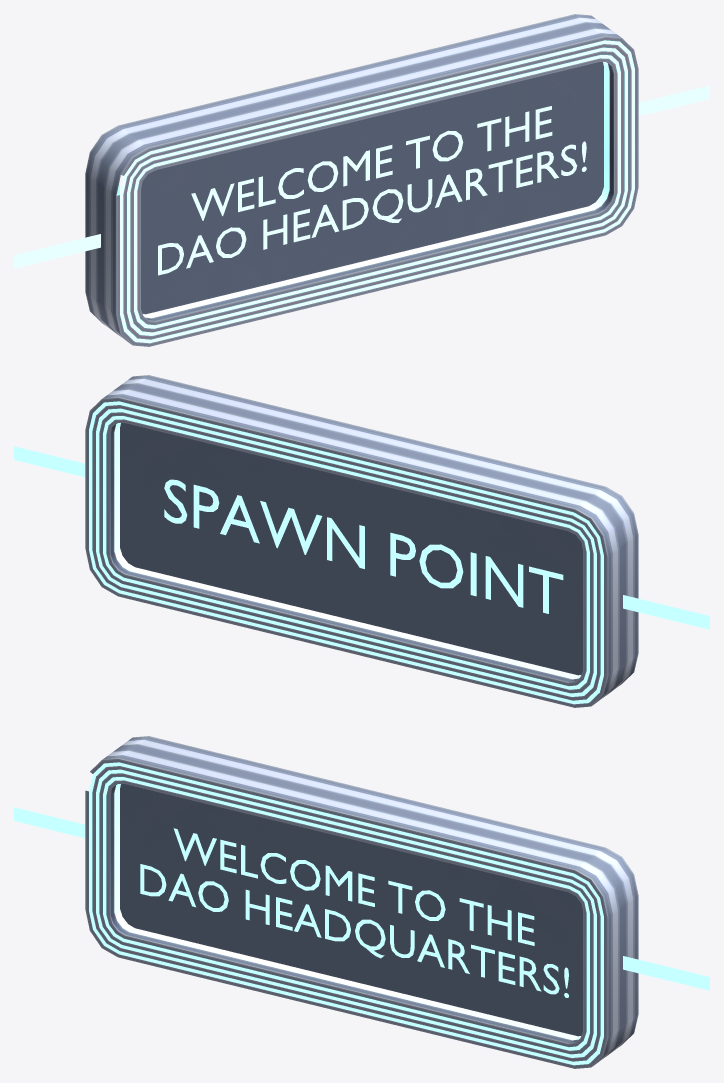
Rendered from obj_daohq.gltf.
3 views of the same model, one above another, from view 1: azimuth 30°, elevation 25°; view 2: azimuth 150°, elevation 25°; view 3: azimuth 330°, elevation 25° (orthographic).
Parts seen in each view (by area): view 1: obj_daohq; view 2: obj_daohq; view 3: obj_daohq.
Part boxes in pixels (bbox=[...]): obj_daohq: bbox=[14, 14, 709, 346]; obj_daohq: bbox=[14, 375, 709, 707]; obj_daohq: bbox=[14, 736, 709, 1068].
Size of what is drawn, in the model's own units: 5.69 by 1.55 by 0.439.
Materials: 2 (1 with a texture image).
